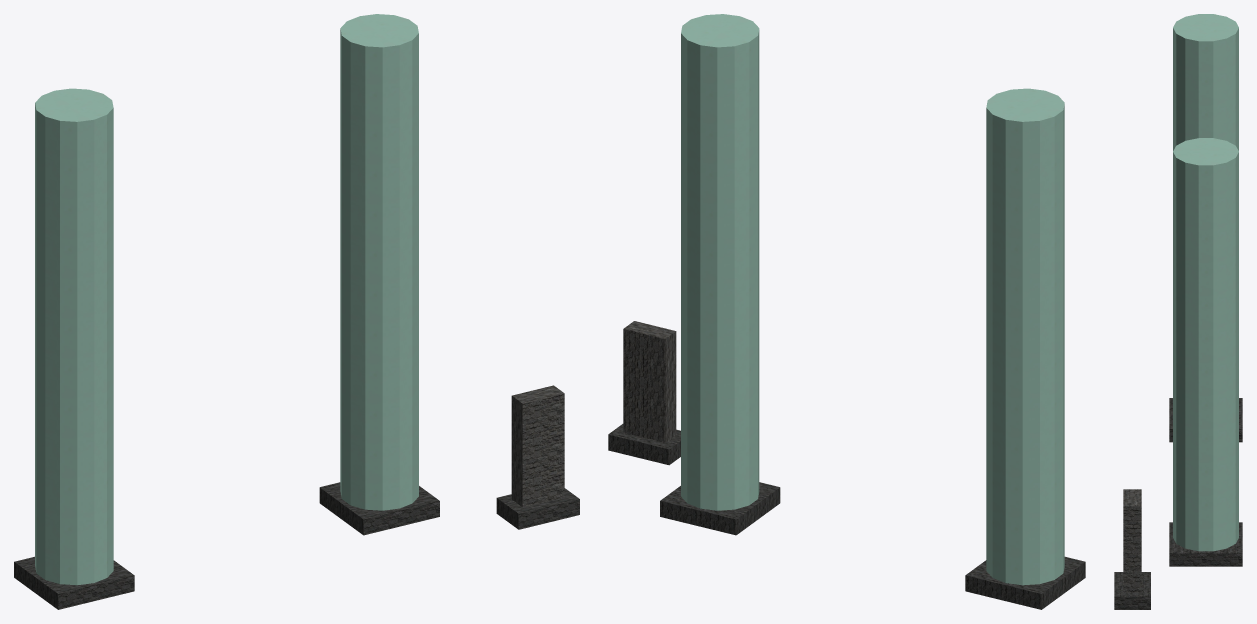
The model's file is gate_light_pillars_01.glb.
3 views of the same model, side by side, from view 1: azimuth 30°, elevation 25°; view 2: azimuth 150°, elevation 25°; view 3: azimuth 270°, elevation 25° (orthographic). The views are drawn at different scales.
Visible parts, largest first — view 1: gate_light_pillars_01; view 2: gate_light_pillars_01; view 3: gate_light_pillars_01.
Part boxes in pixels (x1,y1,x2,y2): gate_light_pillars_01: (14, 14, 579, 609); gate_light_pillars_01: (608, 14, 1085, 609); gate_light_pillars_01: (1114, 14, 1242, 609).
Bounding box in the file's own units: 12.8 × 12 × 3.5.
4 materials, 4 textured.
